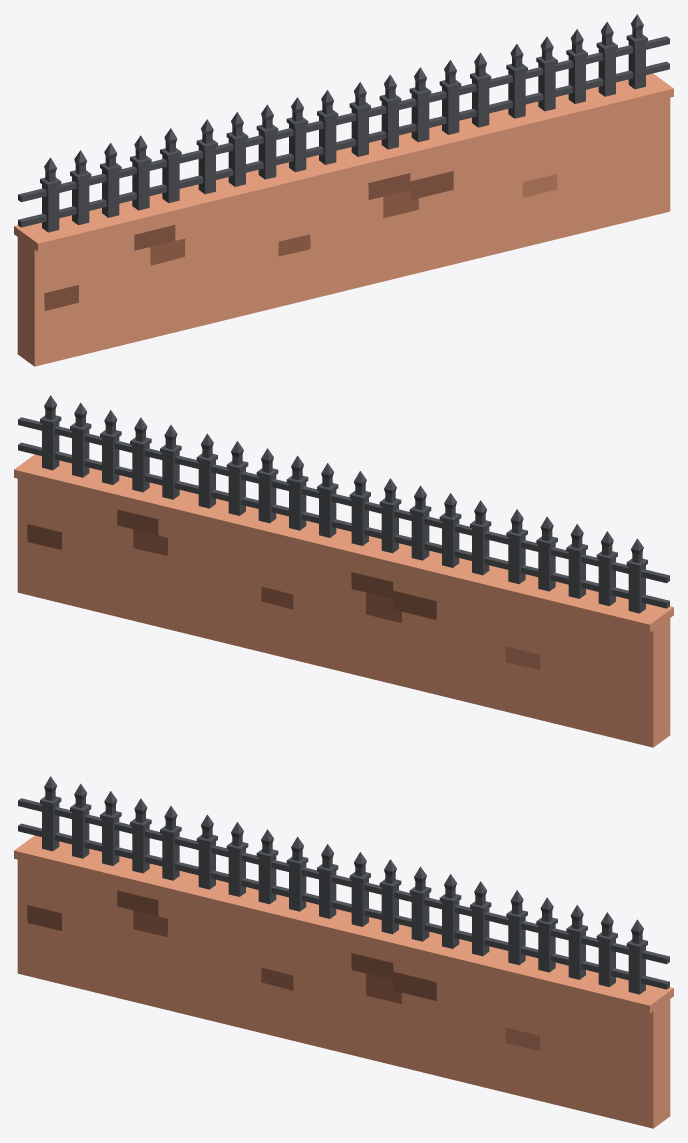
The model's file is Building_Objects_Wall_03.fbx.
The picture shows the model from 3 angles, top to bottom: view 1: azimuth 30°, elevation 25°; view 2: azimuth 150°, elevation 25°; view 3: azimuth 330°, elevation 25°; orthographic projection.
Parts seen in each view (by area): view 1: Building_Objects_Wall_03; view 2: Building_Objects_Wall_03; view 3: Building_Objects_Wall_03.
Part boxes in pixels (x1,y1,x2,y2): Building_Objects_Wall_03: (14, 14, 673, 366); Building_Objects_Wall_03: (14, 395, 673, 747); Building_Objects_Wall_03: (14, 776, 673, 1128).
Size of the model in its own units: 871 by 253 by 56.11.
